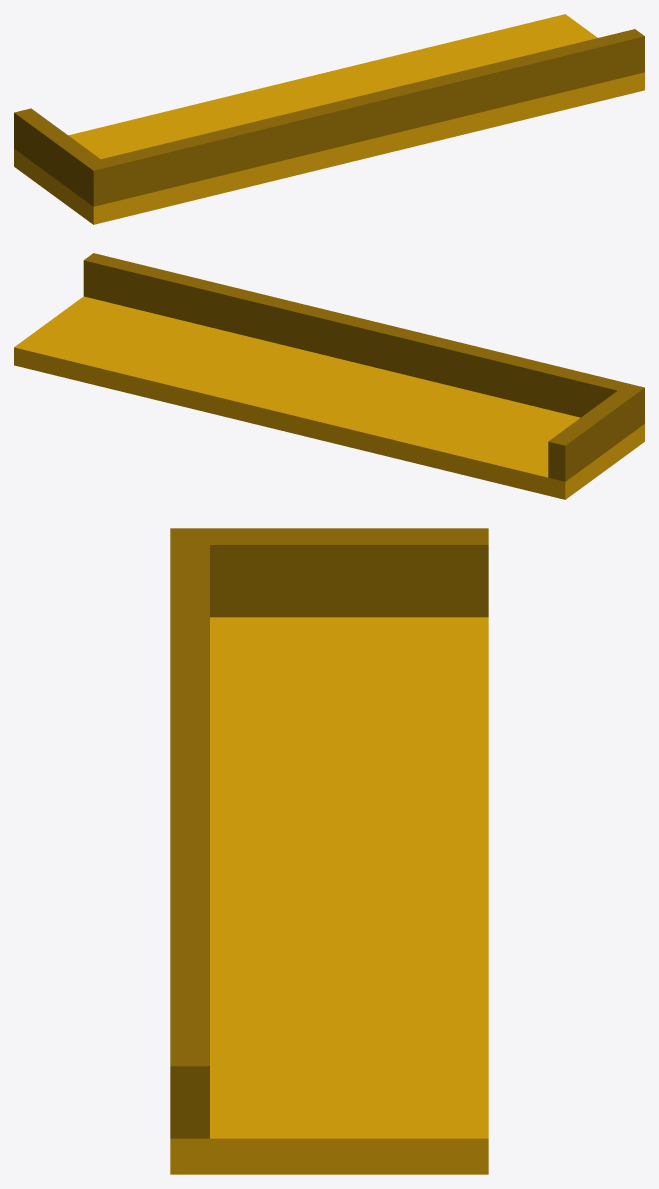
Rendered from Habor Map-3.obj.
3 renders of one model, top to bottom at view 1: azimuth 30°, elevation 25°; view 2: azimuth 150°, elevation 25°; view 3: azimuth 270°, elevation 25°, orthographic. The views are drawn at different scales.
Size of the model in its own units: 3.2 by 0.3 by 0.8.
Materials: 1 (1 with a texture image).
